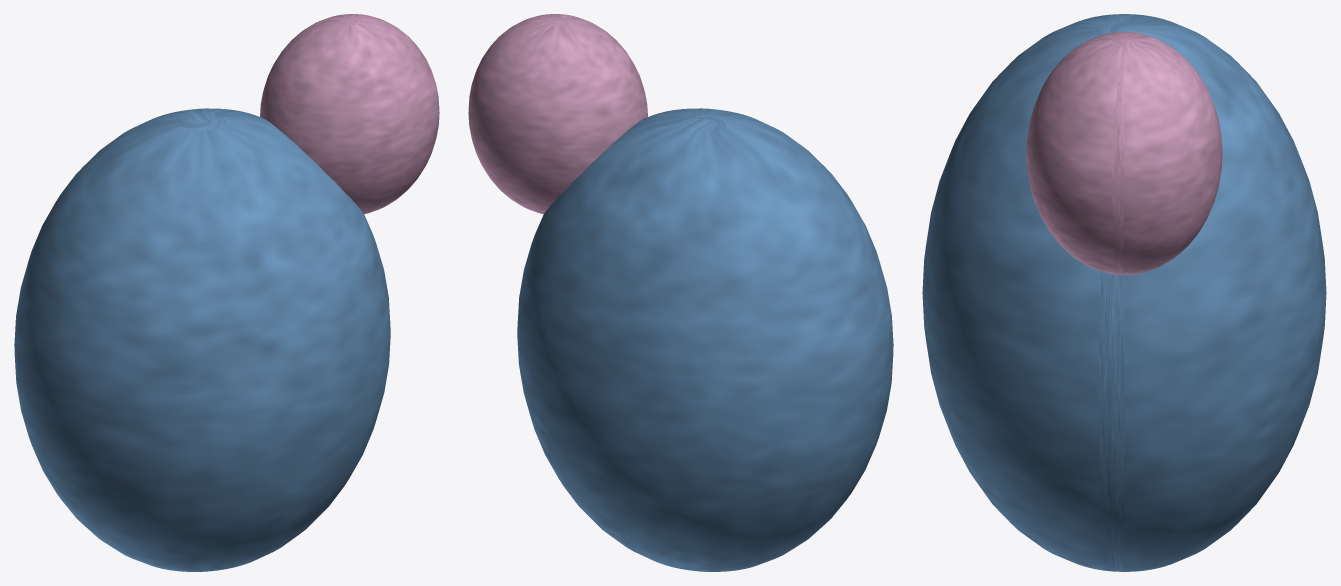
File: complete.glb
3 renders of one model, left to right at view 1: azimuth 30°, elevation 25°; view 2: azimuth 150°, elevation 25°; view 3: azimuth 270°, elevation 25°, orthographic. The views are drawn at different scales.
Visible parts, largest first — view 1: parede_mesh, broto_mesh; view 2: parede_mesh, broto_mesh; view 3: parede_mesh, broto_mesh.
Part boxes in pixels (box(x1,y1,x2,y2)): parede_mesh: box(14, 108, 390, 571); broto_mesh: box(260, 14, 439, 214); parede_mesh: box(517, 108, 893, 571); broto_mesh: box(468, 14, 647, 214); parede_mesh: box(922, 14, 1326, 571); broto_mesh: box(1026, 31, 1222, 274).
Size of the model in its own units: 1.88 by 2.29 by 1.4.
Materials: 7 (7 with a texture image).
